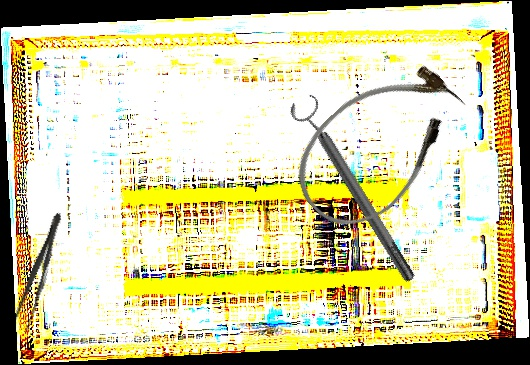Cannula: (275, 43, 483, 247)
Dressing Forceps: (10, 209, 69, 335)
Fixation Ring: (285, 90, 425, 290)
